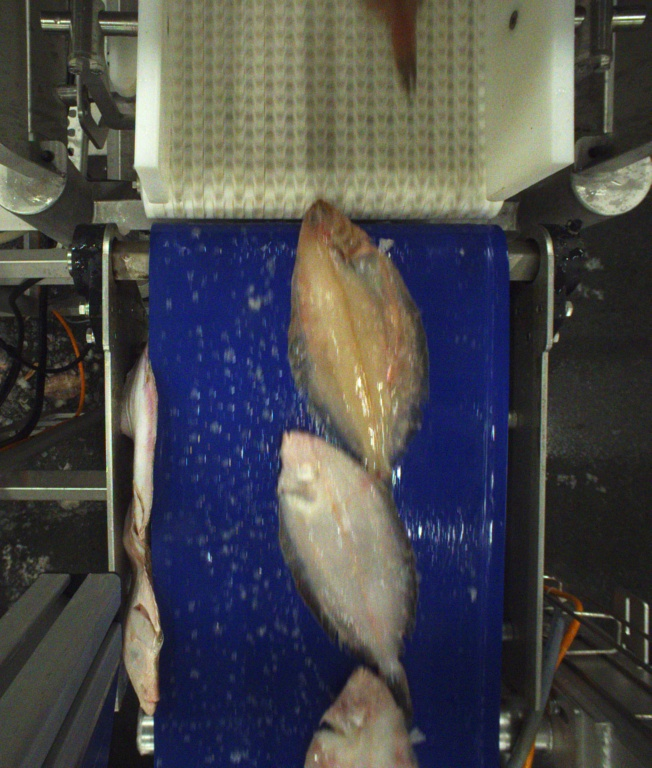WIT: (279, 428, 414, 714)
